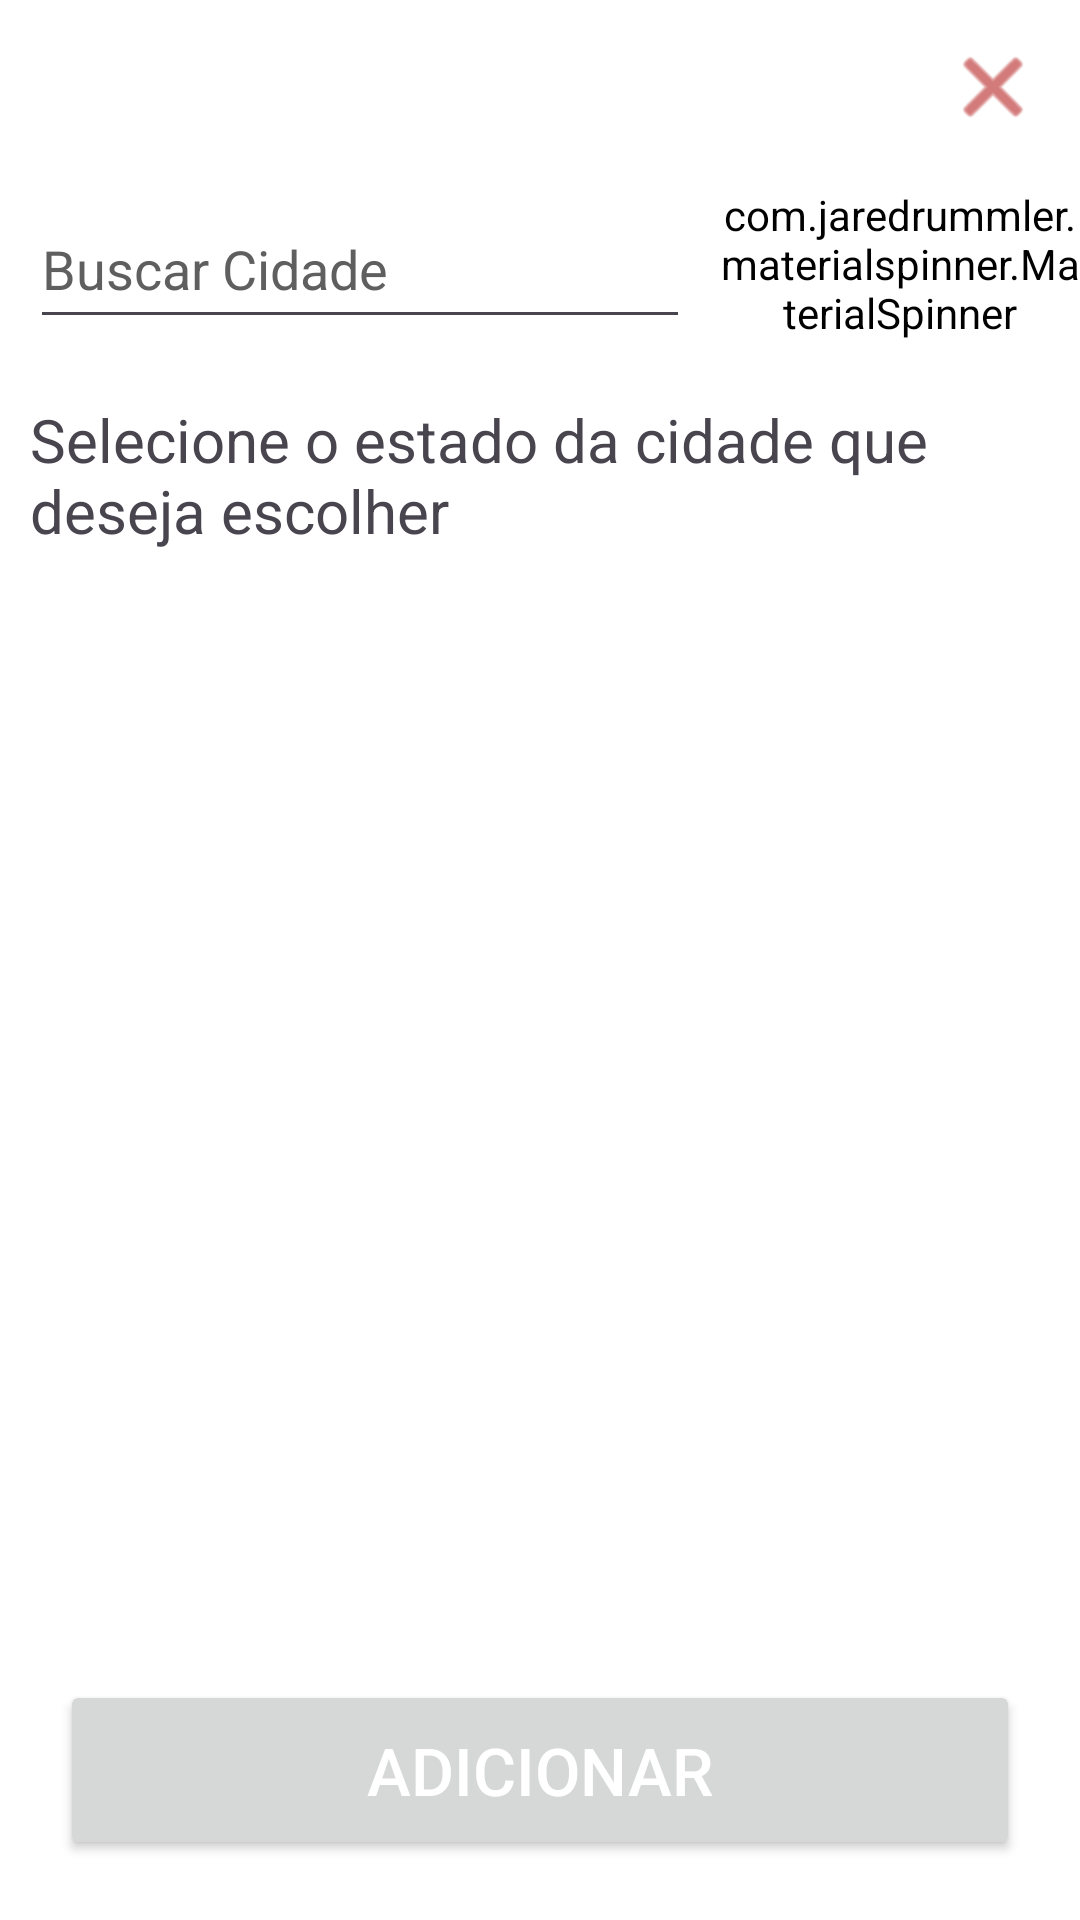

Icons on this 1080 x 1920 Android screen, each with the point to tap as [x,y]:
close clear cancel: [993,87]
